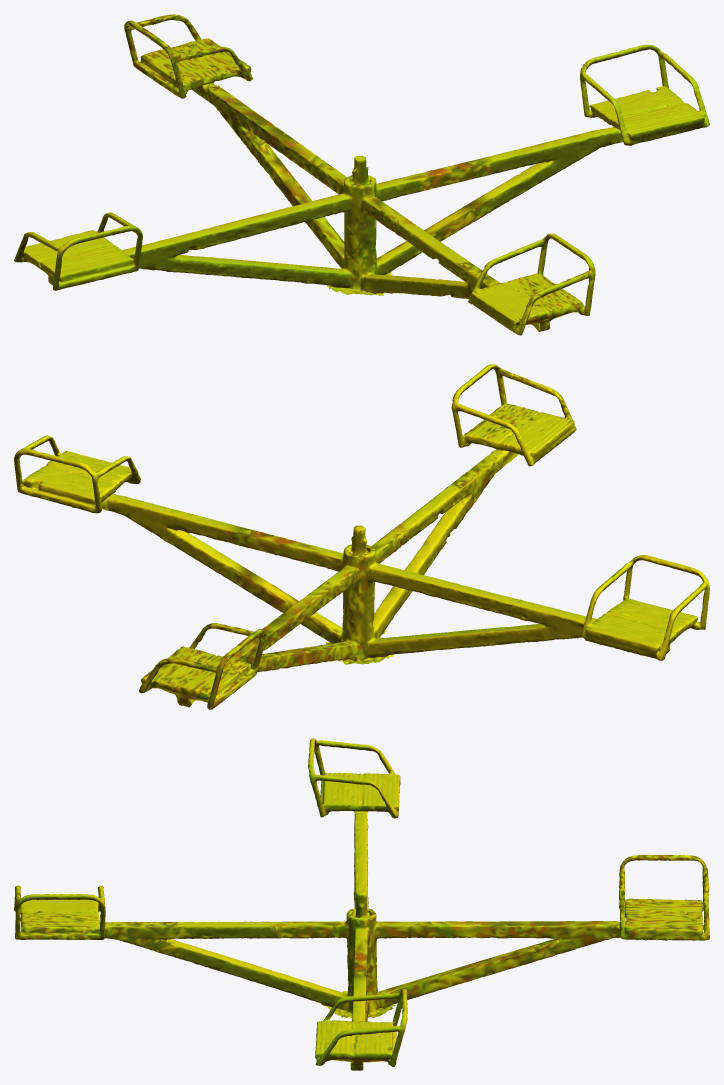
Rendered from Swing.fbx.
3 views of the same model, one above another, from view 1: azimuth 30°, elevation 25°; view 2: azimuth 150°, elevation 25°; view 3: azimuth 270°, elevation 25° (orthographic). The views are drawn at different scales.
Visible parts, largest first — view 1: Old Children Swing; view 2: Old Children Swing; view 3: Old Children Swing.
Part boxes in pixels (x1,y1,x2,y2): Old Children Swing: (14,14,709,335); Old Children Swing: (14,364,709,709); Old Children Swing: (14,738,709,1070).
Bounding box in the file's own units: 292 × 63.4 × 292.
